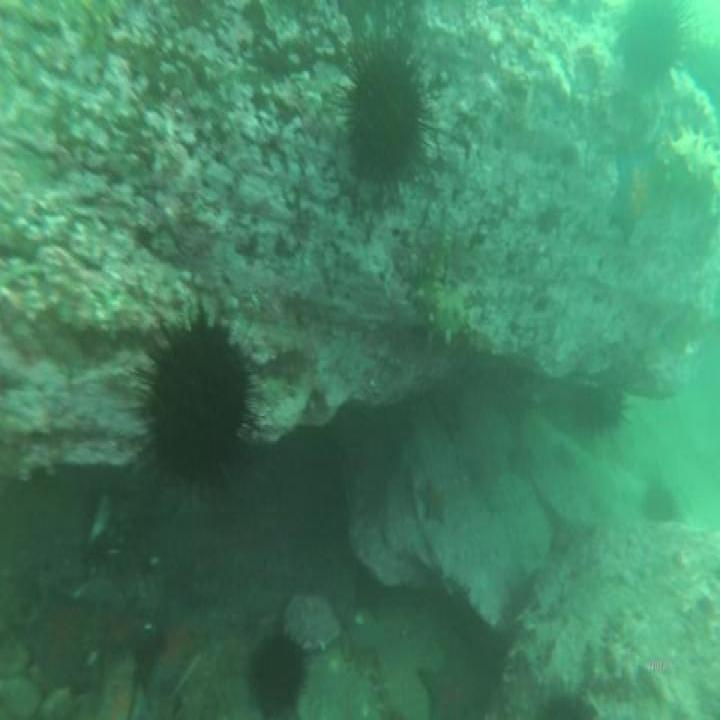echinus: (148, 325, 245, 487), (349, 59, 427, 190), (624, 0, 682, 80), (250, 635, 305, 718), (646, 480, 677, 523), (600, 391, 624, 432)
holothurian: (417, 247, 466, 341), (663, 123, 720, 197), (370, 658, 403, 720)
starfish: (36, 592, 91, 667), (158, 606, 216, 674), (609, 153, 656, 229), (418, 661, 470, 720), (104, 601, 146, 654), (421, 483, 445, 522)
